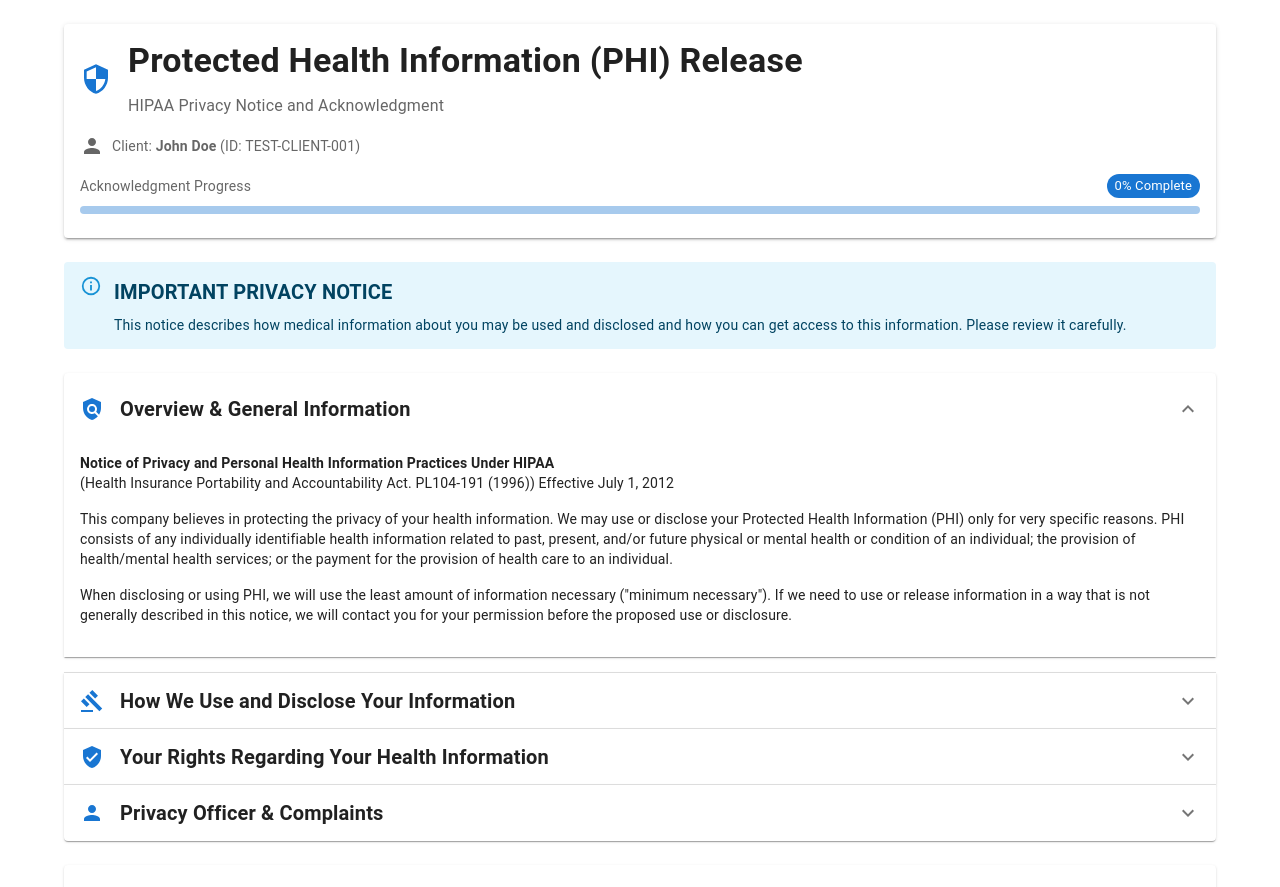
Scenario: ReleasePHI - Protected Health Information Release Form › Accordion Interaction › T11: multiple accordions can be expanded and collapsed
The image size is (1280, 887).
# Expand first accordion
Click the button "Overview & General Information": (265, 409) [64,373,1216,445]
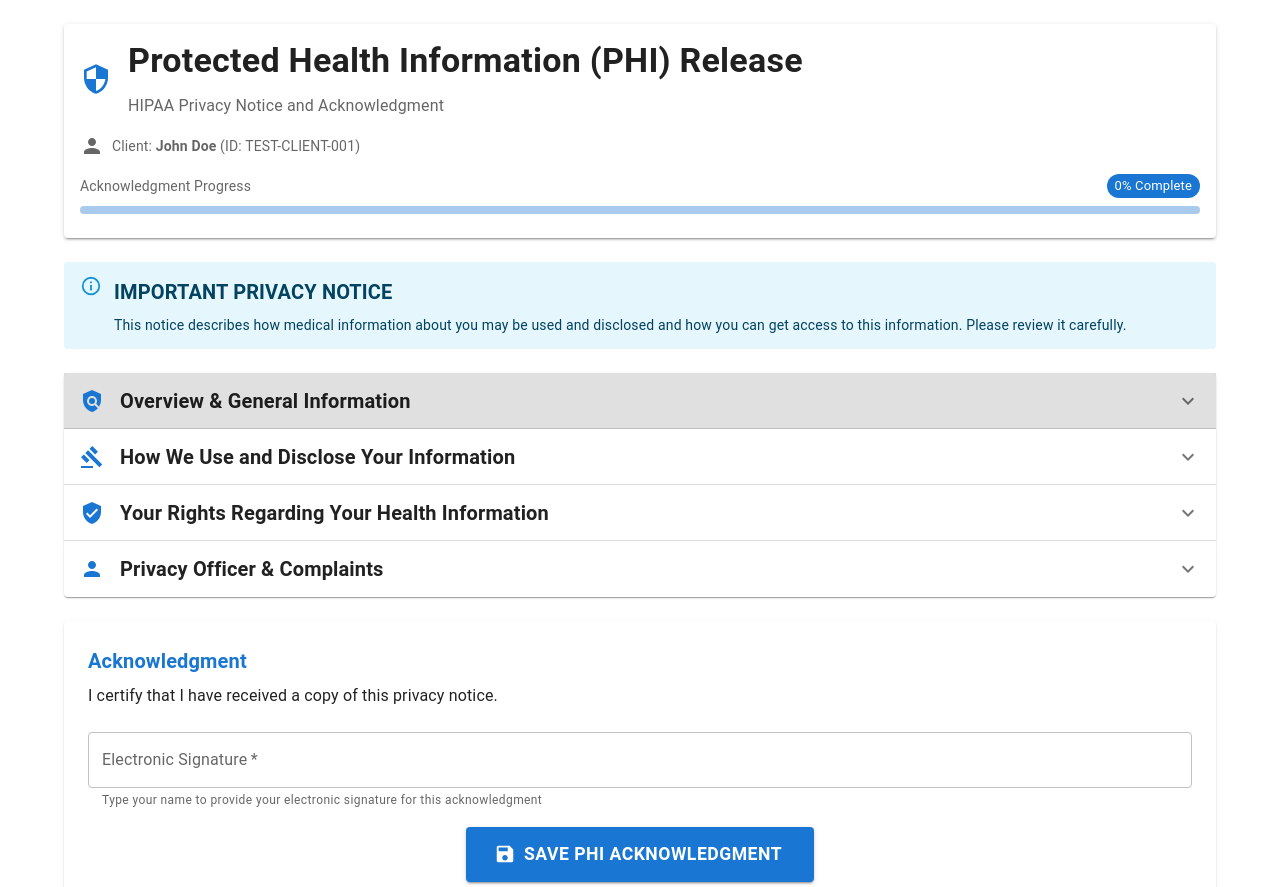
# Expand second accordion
Click the button "How We Use and Disclose Your Information": (318, 457) [64,429,1216,485]
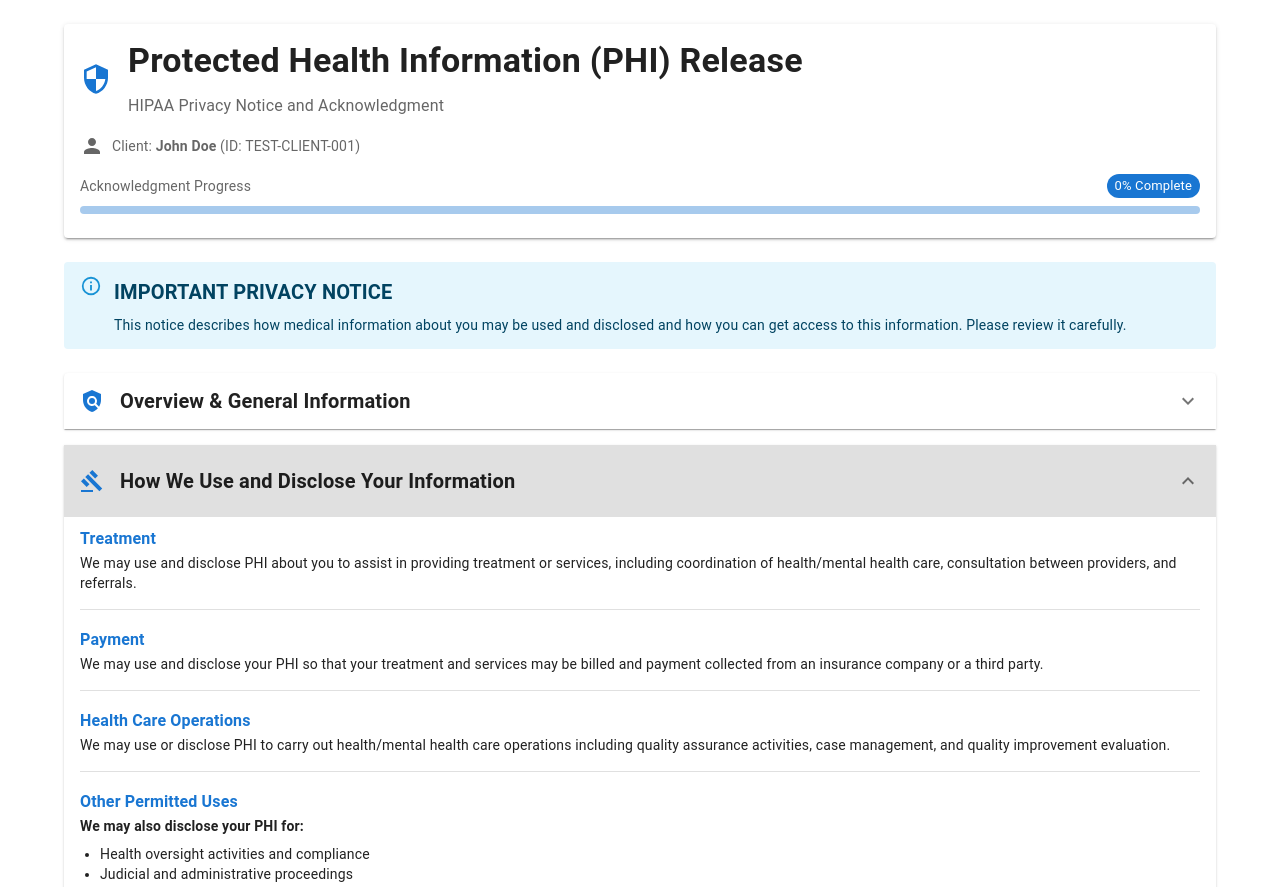
Check: the heading "Treatment" is shown, box [80,529,156,548]
